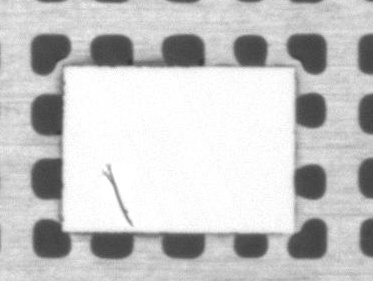DIE_INK: (131, 121, 182, 173)
